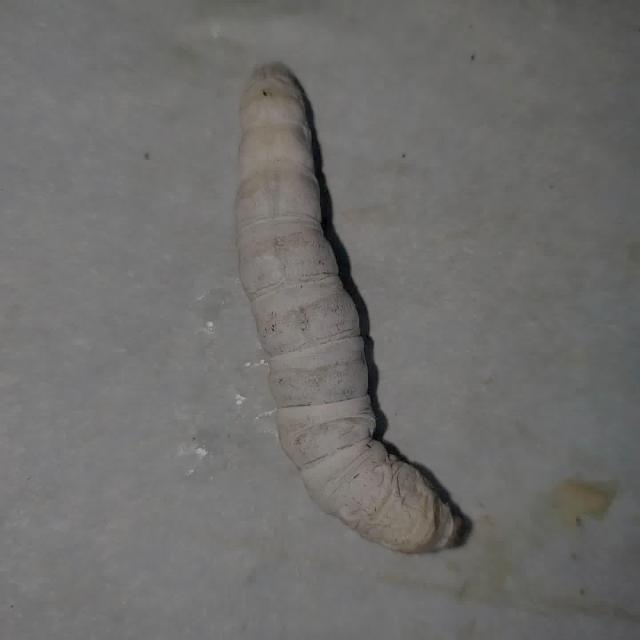Grasserie: (199, 36, 497, 585), (464, 553, 489, 574)
